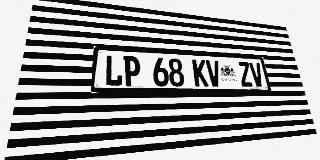6: (152, 57, 169, 86)
8: (168, 58, 185, 86)
K: (192, 59, 209, 86)
L: (104, 55, 123, 86)
P: (123, 56, 140, 86)
V: (205, 60, 222, 87), (249, 62, 265, 87)
Z: (237, 62, 253, 87)
